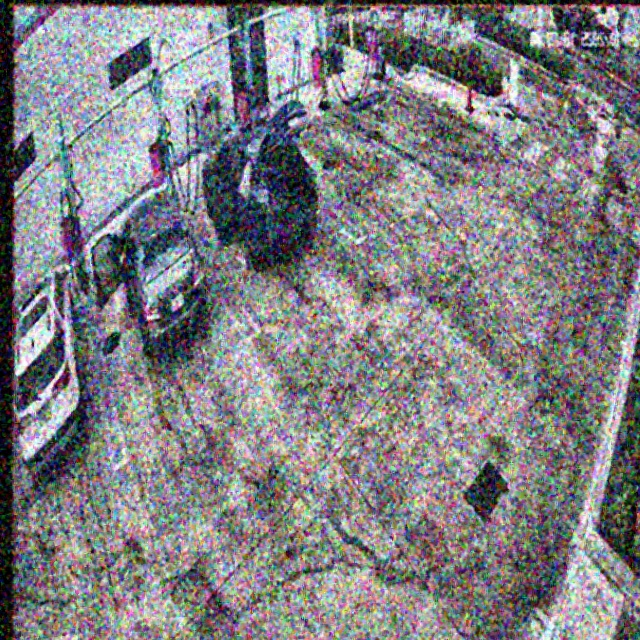Car: (202, 98, 318, 267), (97, 189, 208, 344)
